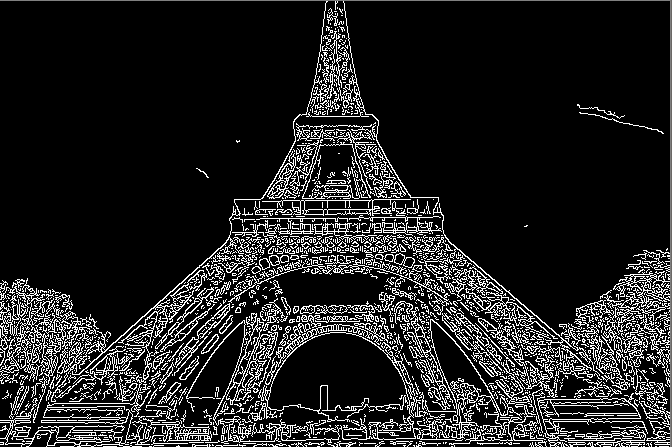eiffel tower: (99, 1, 600, 409)
